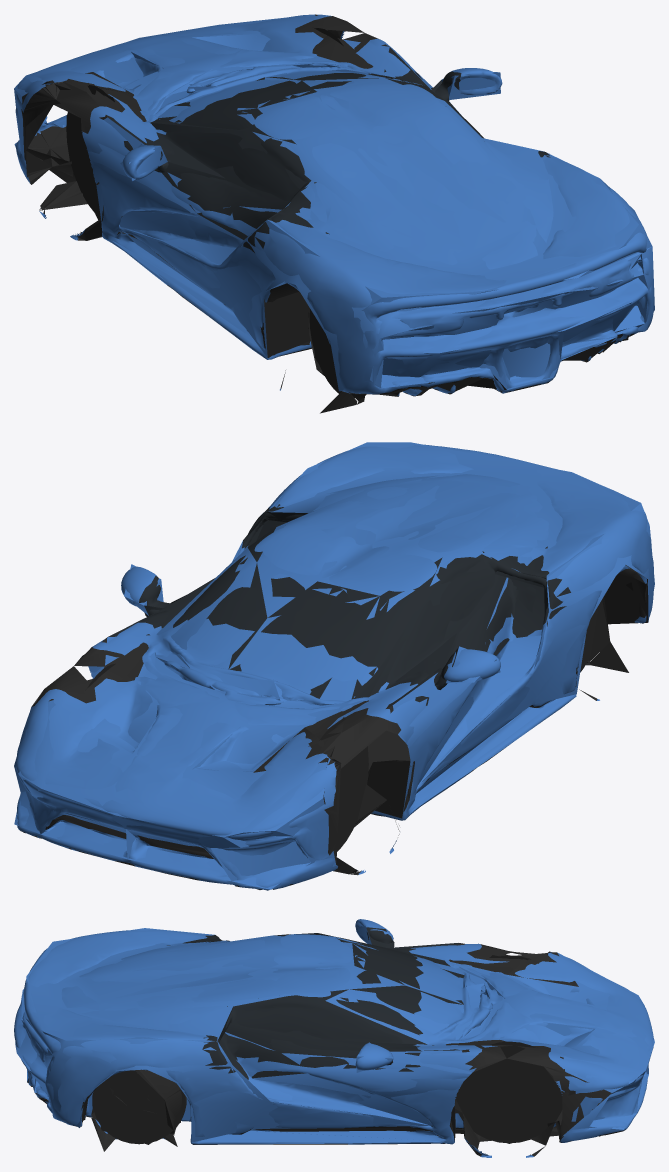
The model's file is ford-gt.glb.
3 renders of one model, top to bottom at view 1: azimuth 30°, elevation 25°; view 2: azimuth 150°, elevation 25°; view 3: azimuth 270°, elevation 25°, orthographic. The views are drawn at different scales.
Parts seen in each view (by area): view 1: body, far; view 2: body, far; view 3: body, far.
Part boxes in pixels (x1=…): body: x1=15, y1=14, x2=653, y2=401; far: x1=14, y1=14, x2=654, y2=413; body: x1=16, y1=444, x2=653, y2=890; far: x1=14, y1=442, x2=654, y2=889; body: x1=14, y1=919, x2=653, y2=1157; far: x1=15, y1=925, x2=654, y2=1157.
Size of the model in its own units: 2.49 by 1.15 by 4.76.
